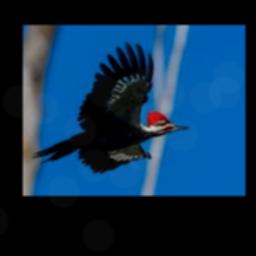Woodpecker: (31, 41, 188, 173)
